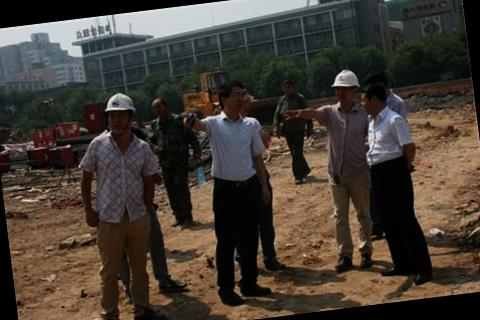no_helmet: (359, 76, 394, 116), (218, 78, 250, 118), (147, 94, 172, 120), (278, 77, 294, 100)
